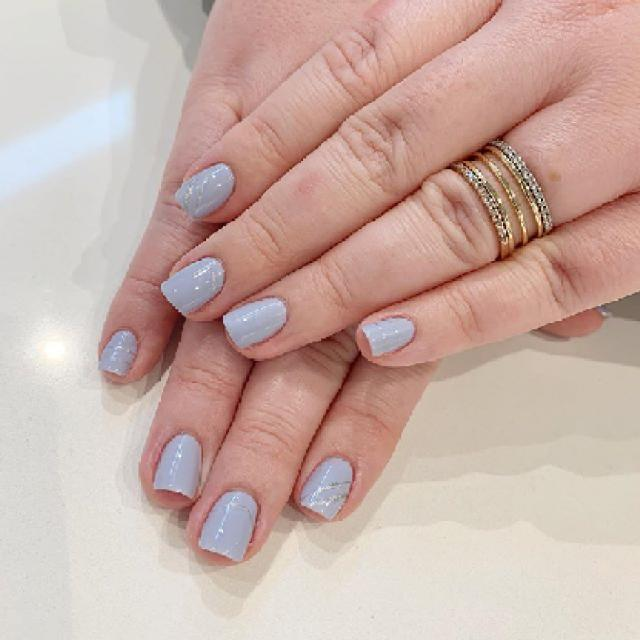Nail: (199, 490, 258, 561), (160, 258, 225, 315), (175, 162, 235, 219), (299, 458, 354, 520), (222, 298, 288, 348), (154, 432, 201, 496), (362, 318, 415, 356), (99, 330, 138, 376)
